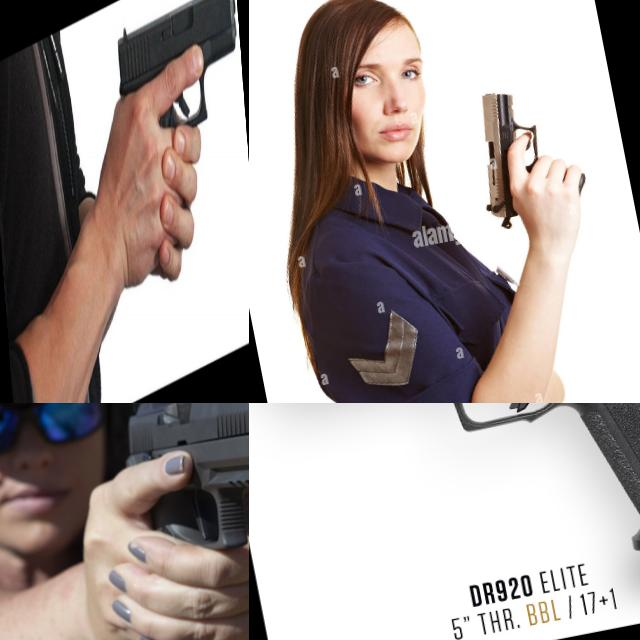handgun: (249, 403, 640, 639), (106, 403, 249, 578), (112, 0, 245, 180), (460, 72, 598, 234)
